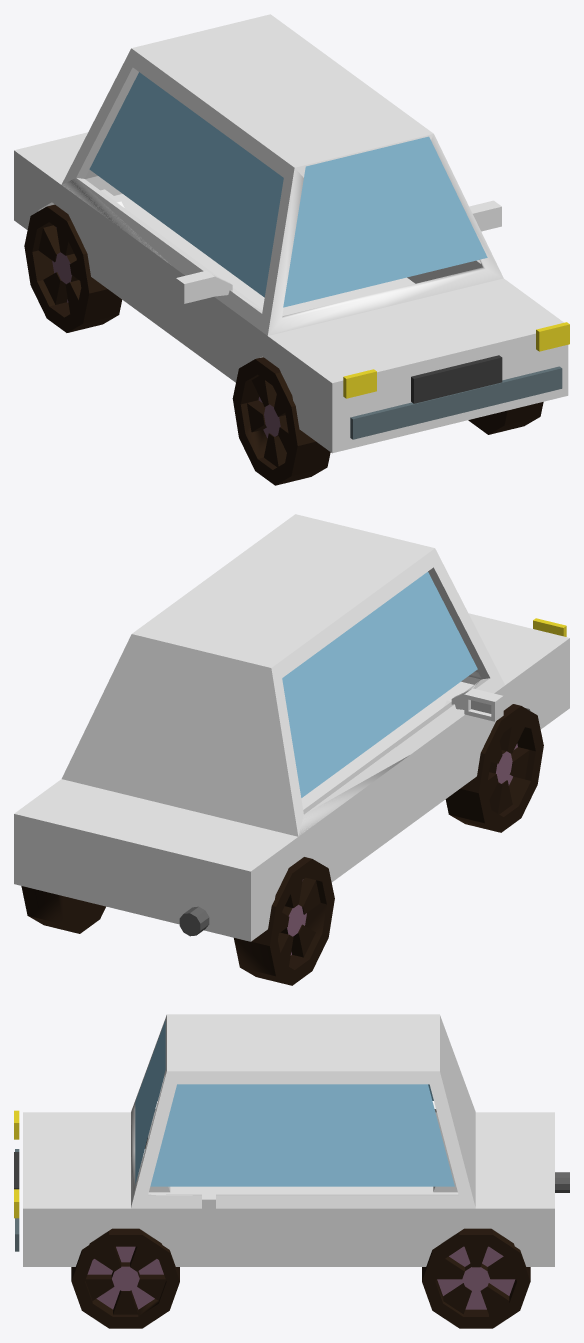
Rendered from simple-car.glb.
The picture shows the model from 3 angles, top to bottom: view 1: azimuth 30°, elevation 25°; view 2: azimuth 150°, elevation 25°; view 3: azimuth 270°, elevation 25°; orthographic projection. The views are drawn at different scales.
Parts seen in each view (by area): view 1: chassis, extra-car-stuff, front-right-tire, back-right-tire, front-left-tire; view 2: chassis, extra-car-stuff, back-right-tire, front-right-tire, back-left-tire; view 3: chassis, extra-car-stuff, back-left-tire, front-left-tire.
Boxes of the visible parts, x1,y1,x2,y2 form: chassis: (14,14,568,453); extra-car-stuff: (89,72,569,439); front-right-tire: (232,357,330,485); back-right-tire: (24,204,121,332); front-left-tire: (468,402,543,434); chassis: (14,514,569,941); extra-car-stuff: (179,572,566,936); back-right-tire: (234,857,334,985); front-right-tire: (445,704,543,832); back-left-tire: (21,886,105,933); chassis: (23,1014,554,1266); extra-car-stuff: (14,1020,569,1251); back-left-tire: (422,1228,530,1328); front-left-tire: (71,1228,179,1328).
Size of the model in its own units: 4.13 by 3.49 by 7.49.
1 material, 1 textured.
